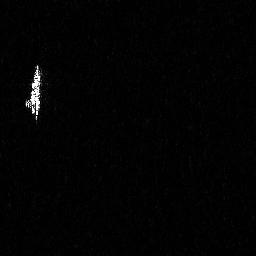ship: (24, 62, 42, 124)
